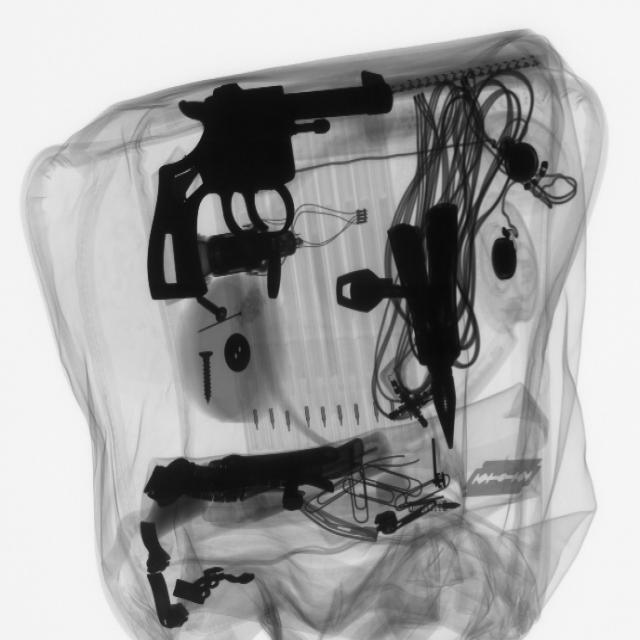BLADE: (460, 450, 549, 507)
GUN: (140, 76, 394, 307)
SCREW: (183, 346, 234, 409), (183, 288, 241, 339)
